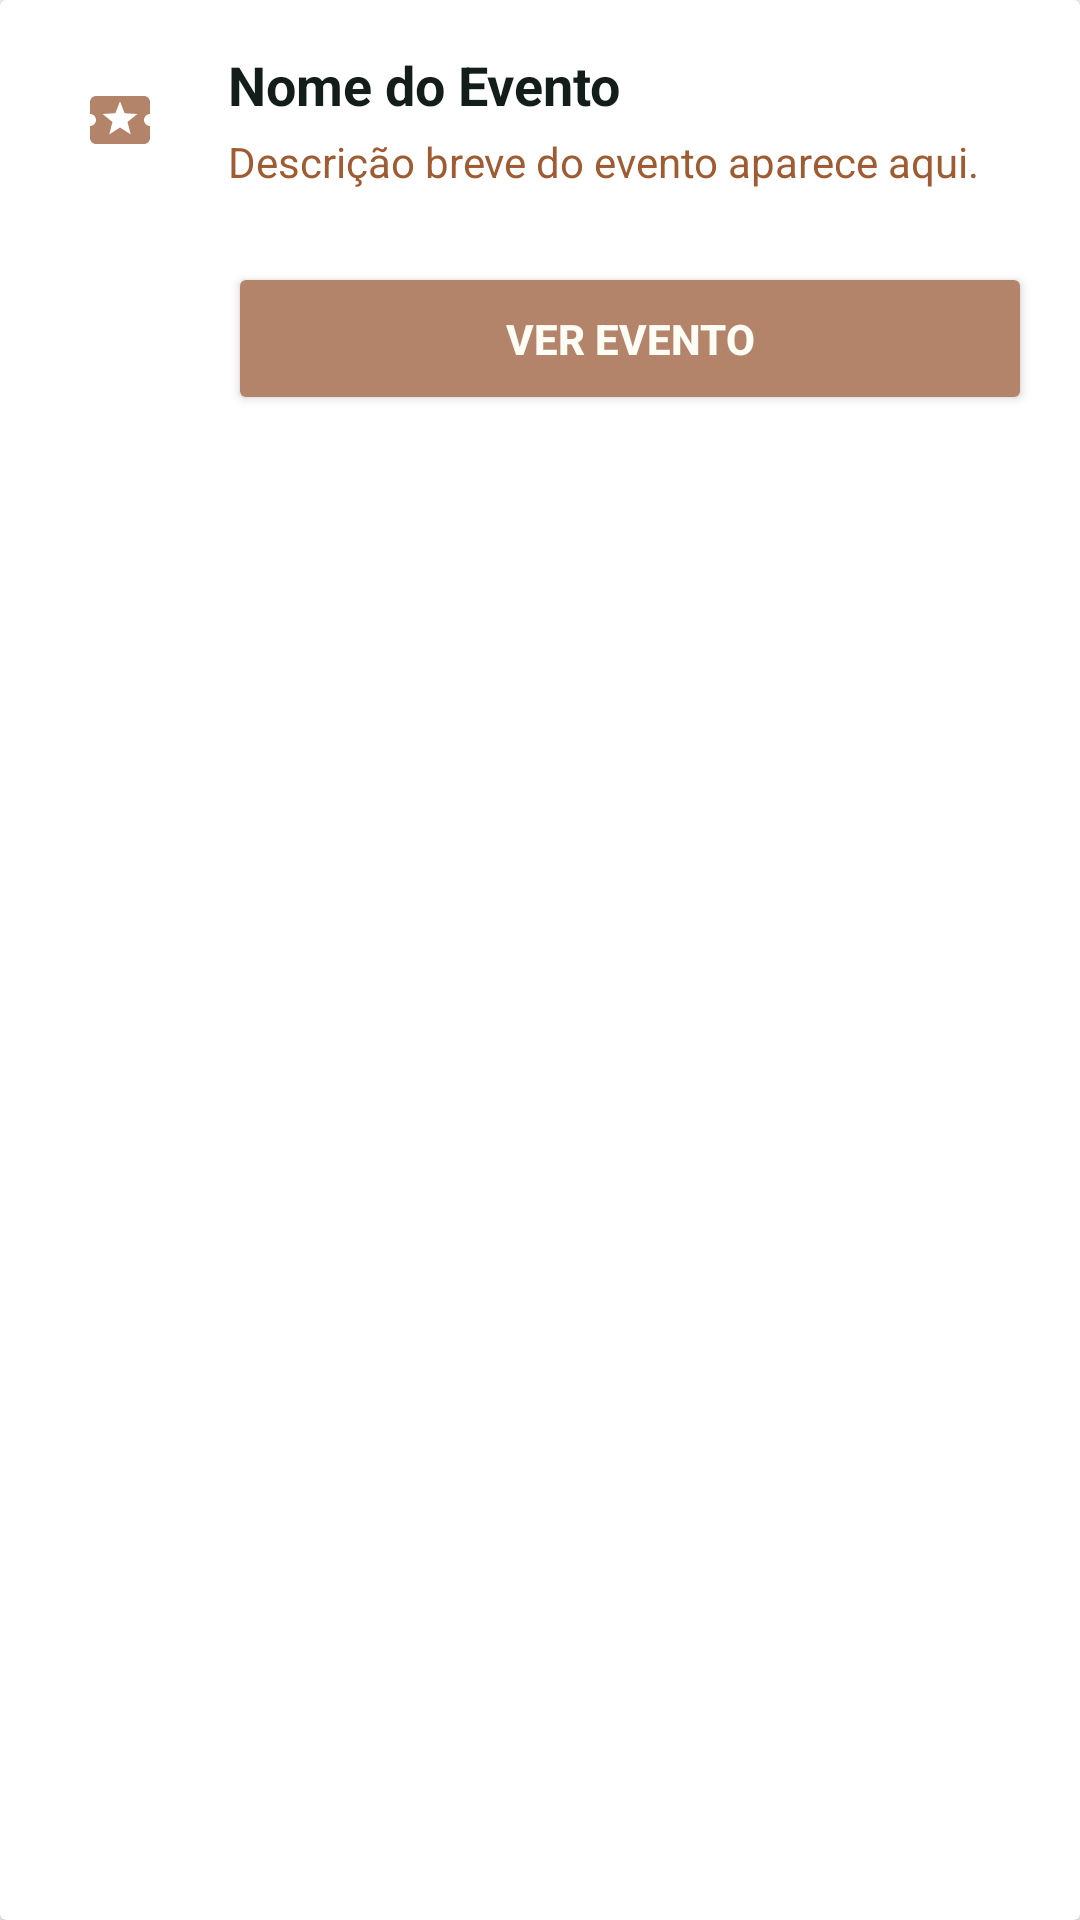

Where to tap for icons on this 1080 x 1920 app screen, as point (x, y):
evento lista: point (120, 120)
